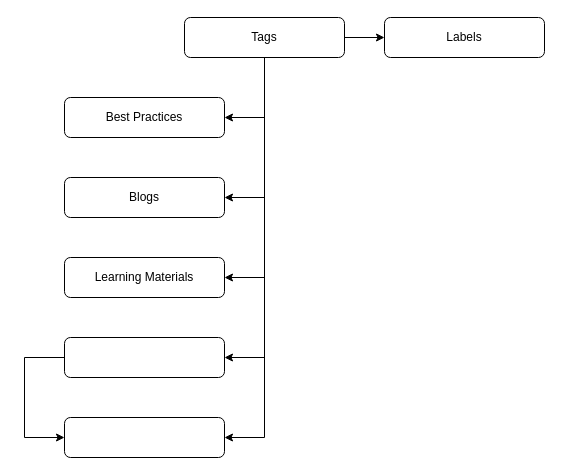
Image size: 562x475. Some labels were removed from this diagram. The centre of each missing label's shape, as x and y in pixels:
"Issues" goes at [144,437].
"Projects" goes at [144,357].
